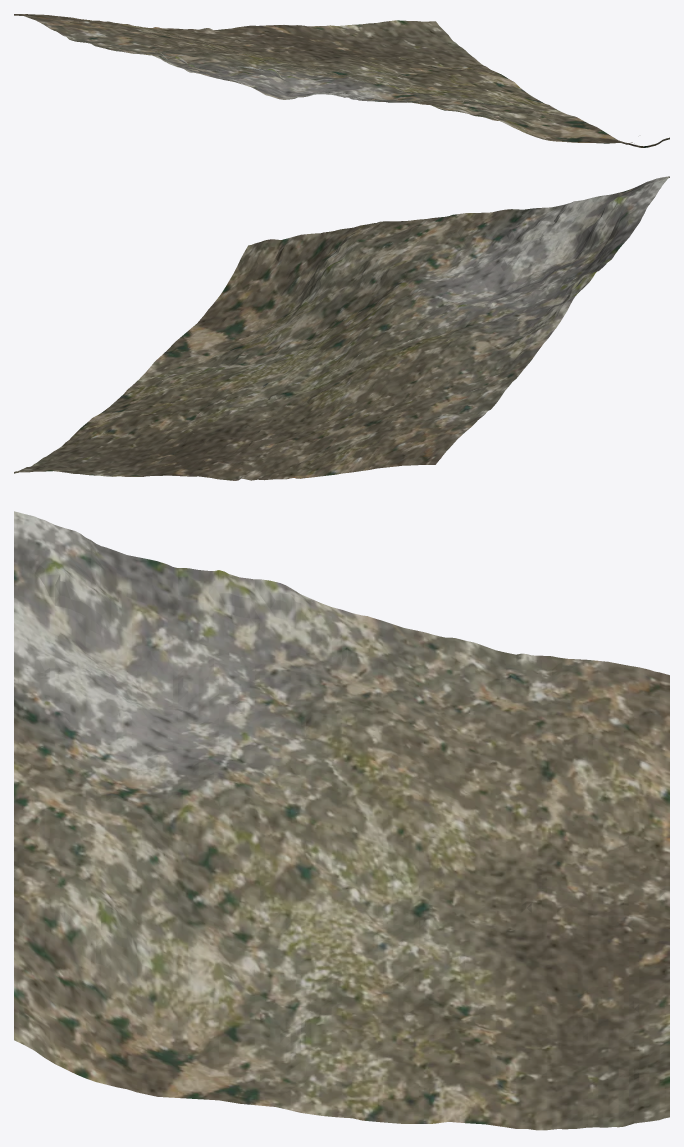
The picture shows the model from 3 angles, top to bottom: view 1: azimuth 30°, elevation 25°; view 2: azimuth 150°, elevation 25°; view 3: azimuth 270°, elevation 25°; orthographic projection. The views are drawn at different scales.
Bounding box in the file's own units: 250 × 135 × 241.
1 material, 1 textured.
